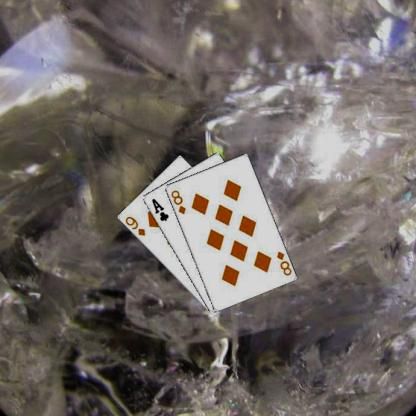8D: (168, 187, 187, 216), (274, 248, 292, 277)
9D: (122, 213, 146, 237)
AC: (149, 196, 169, 222)
